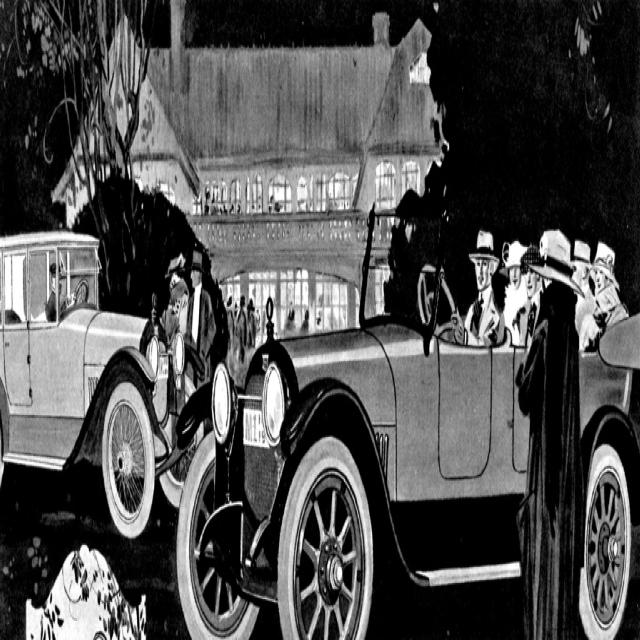car: (173, 259, 639, 637), (0, 228, 172, 539)
